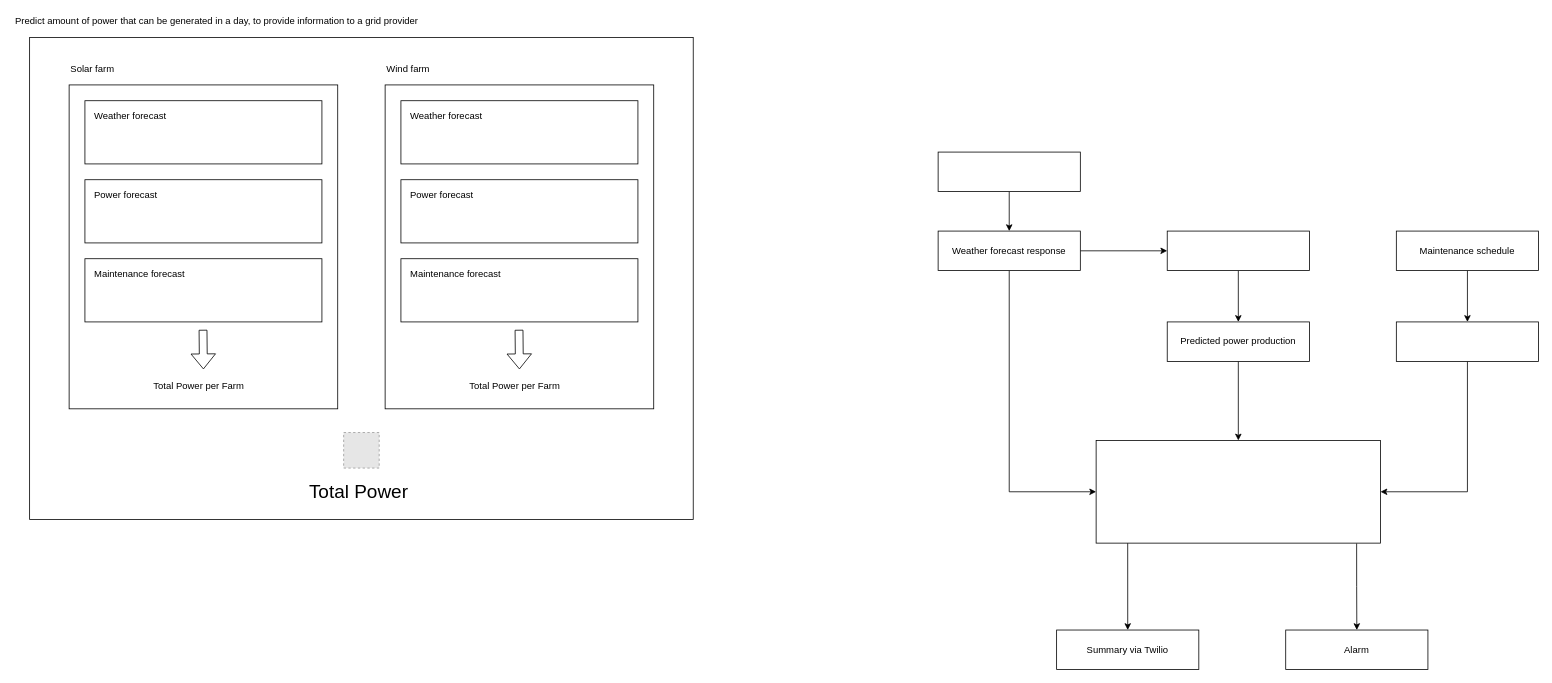
Image size: 1552x683. Some labels were removed from this diagram. Grey dashed boxes stand in for pictures. Each missing label, with the centre of its shape:
Dashboard: (1238,491)
Maintenance API endpoint: (1467,341)
ML Model: (1237,250)
Request weather forecast: (1008,171)
